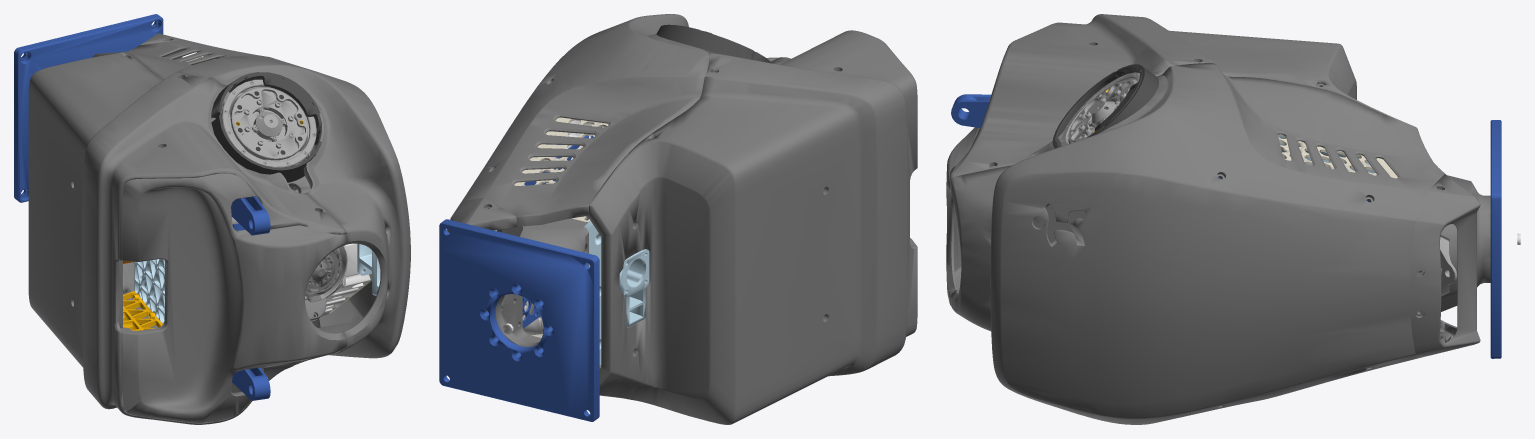
File: torso_purdue.obj
3 views of the same model, side by side, from view 1: azimuth 30°, elevation 25°; view 2: azimuth 150°, elevation 25°; view 3: azimuth 270°, elevation 25° (orthographic). The views are drawn at different scales.
Visible parts, largest first — view 1: torso_purdue; view 2: torso_purdue; view 3: torso_purdue.
Boxes of the visible parts, box(x1,y1,x2,y2) form: torso_purdue: box(14, 14, 410, 424); torso_purdue: box(439, 14, 917, 424); torso_purdue: box(946, 14, 1520, 424).
Size of the model in its own units: 0.3469 by 0.3367 by 0.5257.
